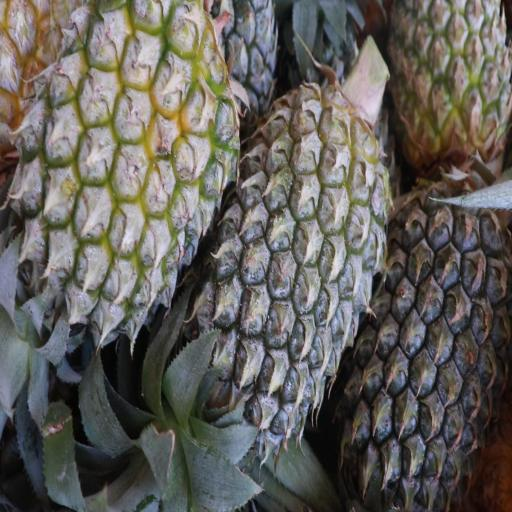------------------------------: (32, 0, 236, 312), (392, 0, 512, 172)
